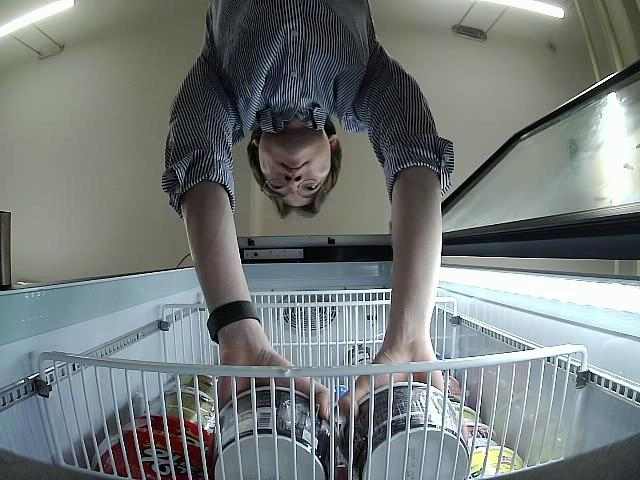00_hand: (215, 342, 332, 421), (340, 348, 447, 417)
07_buldak_L: (342, 379, 472, 480), (210, 386, 335, 480)
